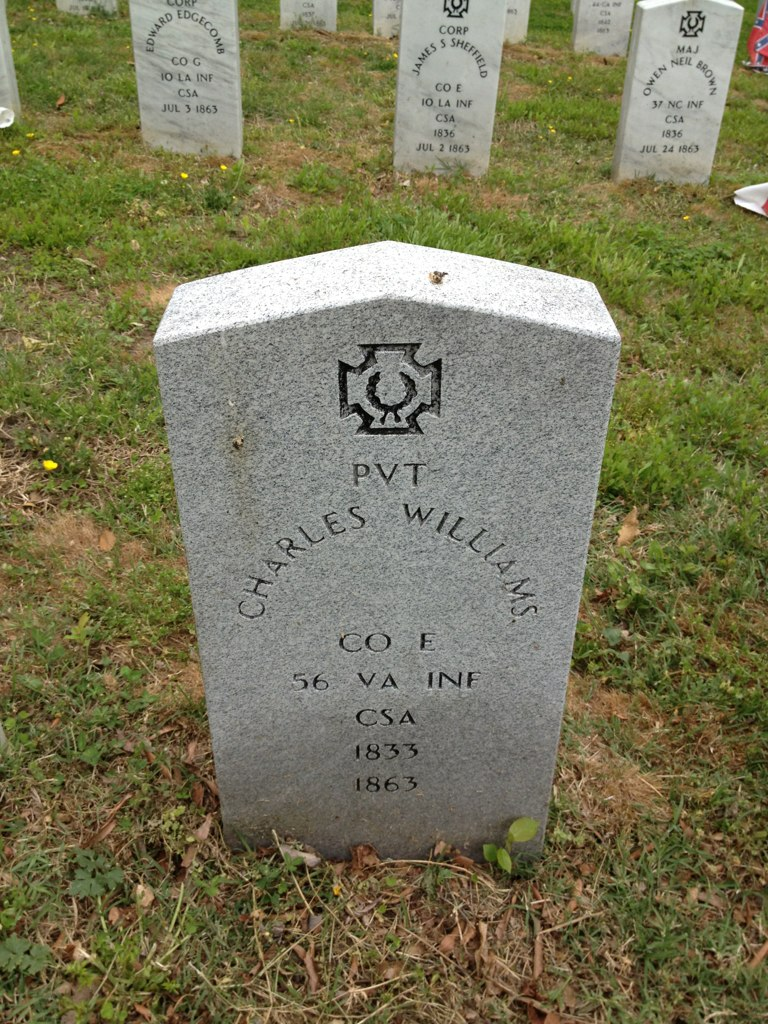military: (153, 233, 623, 860)
